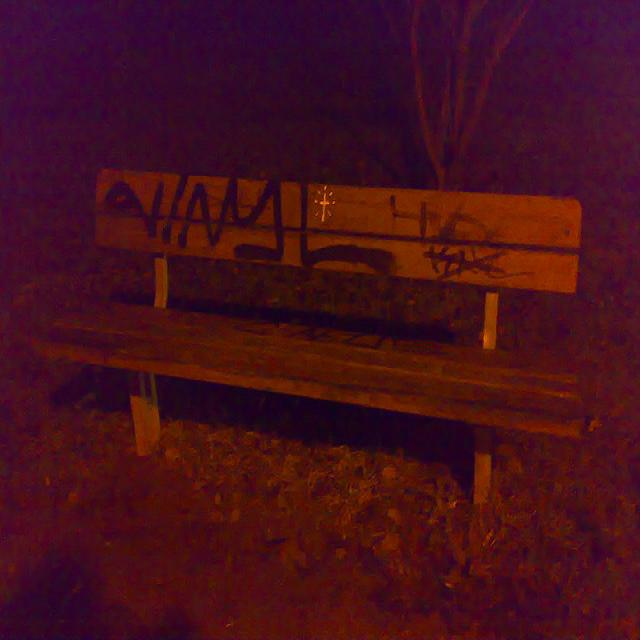chair: (27, 146, 604, 538)
